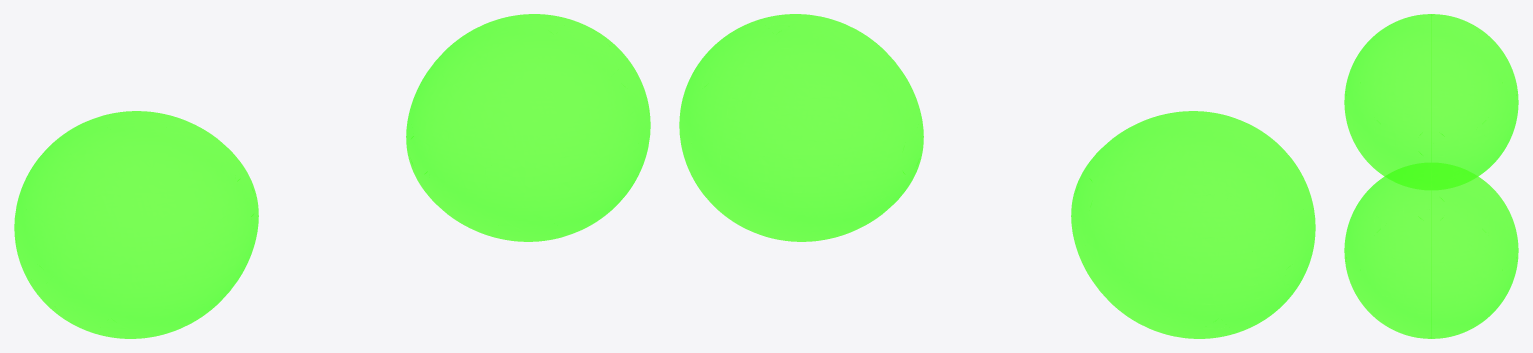
3 renders of one model, left to right at view 1: azimuth 30°, elevation 25°; view 2: azimuth 150°, elevation 25°; view 3: azimuth 270°, elevation 25°, orthographic. The views are drawn at different scales.
Visible parts, largest first — view 1: 2px; view 2: 2px; view 3: 2px.
Part boxes in pixels (x1=…): 2px: x1=14, y1=14, x2=650, y2=338; 2px: x1=679, y1=14, x2=1315, y2=338; 2px: x1=1344, y1=14, x2=1518, y2=338.
Size of the model in its own units: 8.52 by 2.76 by 2.76.
